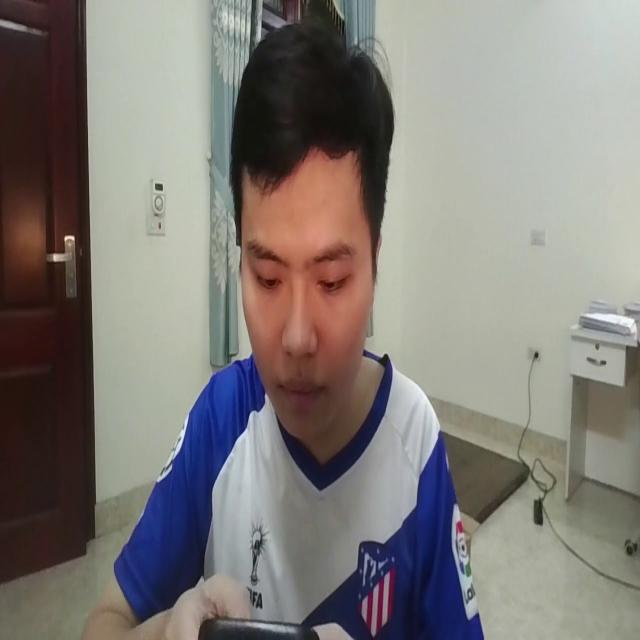student: (96, 8, 489, 640)
